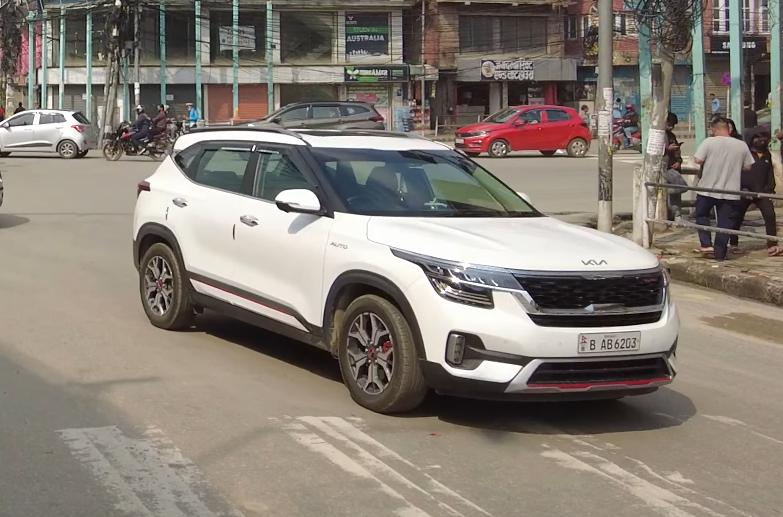car: (123, 97, 700, 429), (452, 102, 595, 165), (0, 109, 100, 160)
